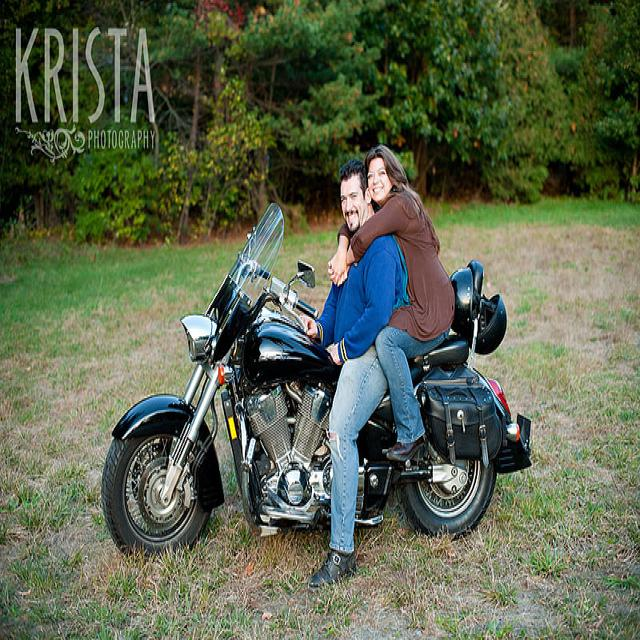motor: (104, 205, 530, 555)
